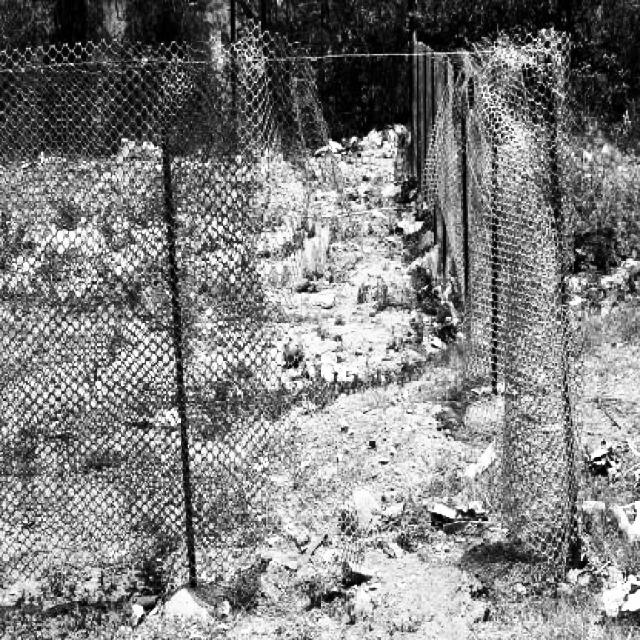anomaly-fence: (207, 25, 591, 606)
